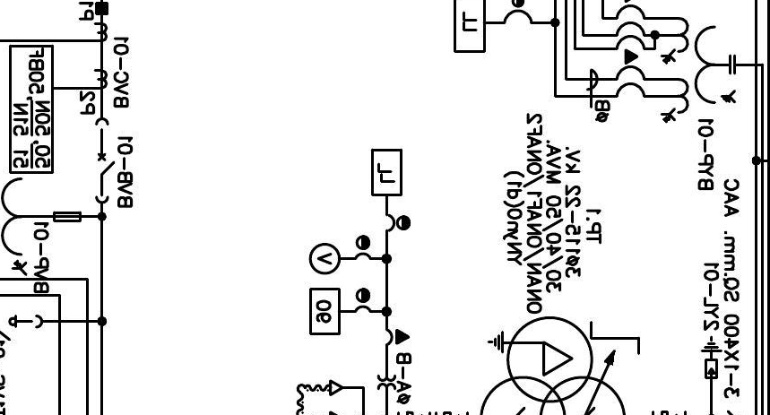115_cvt_3p: (660, 16, 736, 124)
115_la: (700, 336, 723, 379)
22_breaker: (94, 117, 115, 204)
LL: (371, 148, 402, 197)
v_m: (308, 242, 341, 275)
